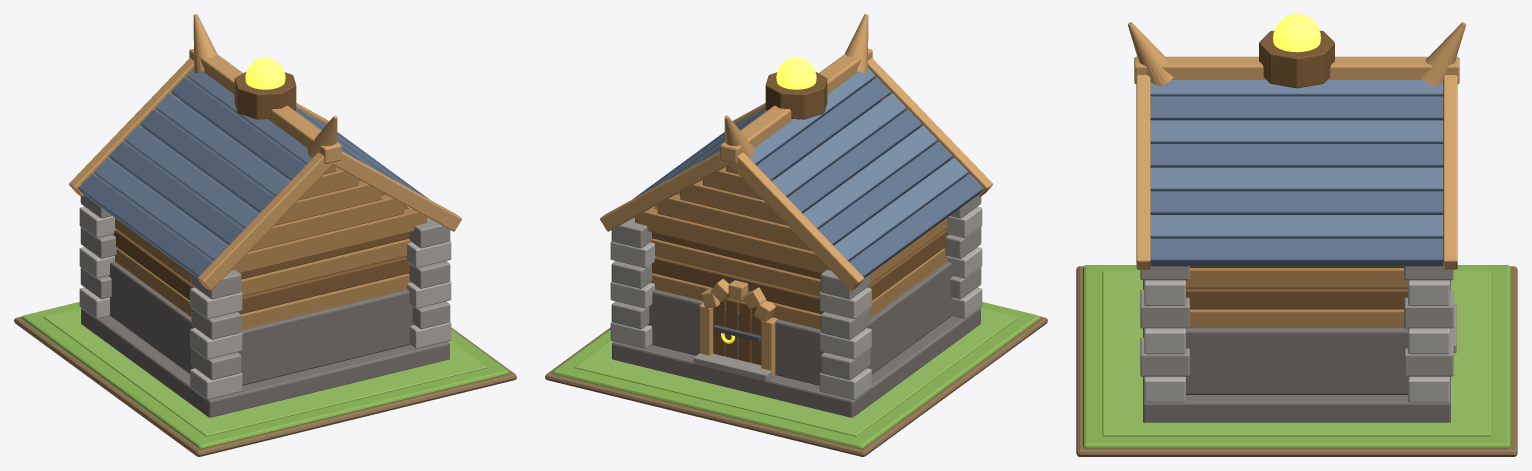
File: builder_hall_lv4.glb
3 renders of one model, left to right at view 1: azimuth 30°, elevation 25°; view 2: azimuth 150°, elevation 25°; view 3: azimuth 270°, elevation 25°, orthographic. The views are drawn at different scales.
Visible parts, largest first — view 1: BH_SlateWainscot, BH_Foundation, Base_Inner, Base_Grass, Base_Dirt, WallPlank_4, WallPlank_3, WallPlank_5, Gable_-1_0, RoofSlope_-1_7, Bargeboard_-1_-1, RoofSlope_-1_5 (+34 smaller); view 2: BH_SlateWainscot, Base_Inner, BH_Foundation, Base_Grass, Base_Dirt, WallPlank_4, WallPlank_5, Gable_1_0, RoofSlope_-1_7, Bargeboard_1_-1, RoofSlope_-1_5, RoofSlope_-1_2 (+40 smaller); view 3: Base_Inner, BH_SlateWainscot, Base_Grass, RoofSlope_1_7, BH_Foundation, RoofSlope_1_1, RoofSlope_1_4, RoofSlope_1_2, RoofSlope_1_3, RoofSlope_1_5, RoofSlope_1_6, Base_Dirt (+23 smaller).
Boxes of the visible parts, bbox=[...] form: BH_SlateWainscot: bbox=[109, 261, 413, 385]; BH_Foundation: bbox=[81, 308, 449, 417]; Base_Inner: bbox=[43, 307, 487, 436]; Base_Grass: bbox=[21, 302, 509, 448]; Base_Dirt: bbox=[14, 316, 516, 456]; WallPlank_4: bbox=[113, 229, 409, 313]; WallPlank_3: bbox=[115, 248, 411, 329]; WallPlank_5: bbox=[115, 218, 411, 296]; Gable_-1_0: bbox=[231, 208, 426, 273]; RoofSlope_-1_7: bbox=[78, 173, 212, 277]; Bargeboard_-1_-1: bbox=[197, 152, 332, 290]; RoofSlope_-1_5: bbox=[109, 141, 243, 245]; BH_SlateWainscot: bbox=[648, 261, 952, 385]; Base_Inner: bbox=[574, 307, 1018, 436]; BH_Foundation: bbox=[612, 308, 980, 417]; Base_Grass: bbox=[552, 302, 1040, 448]; Base_Dirt: bbox=[545, 316, 1047, 456]; WallPlank_4: bbox=[652, 229, 948, 313]; WallPlank_5: bbox=[650, 218, 946, 296]; Gable_1_0: bbox=[635, 208, 830, 273]; RoofSlope_-1_7: bbox=[849, 173, 983, 277]; Bargeboard_1_-1: bbox=[729, 152, 864, 290]; RoofSlope_-1_5: bbox=[818, 141, 952, 245]; RoofSlope_-1_2: bbox=[772, 93, 906, 196]; Base_Inner: bbox=[1102, 271, 1491, 436]; BH_SlateWainscot: bbox=[1186, 328, 1407, 394]; Base_Grass: bbox=[1083, 265, 1510, 448]; RoofSlope_1_7: bbox=[1150, 238, 1443, 266]; BH_Foundation: bbox=[1143, 280, 1450, 422]; RoofSlope_1_1: bbox=[1150, 96, 1443, 120]; RoofSlope_1_4: bbox=[1150, 167, 1443, 191]; RoofSlope_1_2: bbox=[1150, 120, 1443, 143]; RoofSlope_1_3: bbox=[1150, 144, 1443, 167]; RoofSlope_1_5: bbox=[1150, 191, 1443, 214]; RoofSlope_1_6: bbox=[1150, 215, 1443, 238]; Base_Dirt: bbox=[1076, 266, 1517, 456].
Size of the model in its own units: 3.68 by 3.21 by 3.68.
